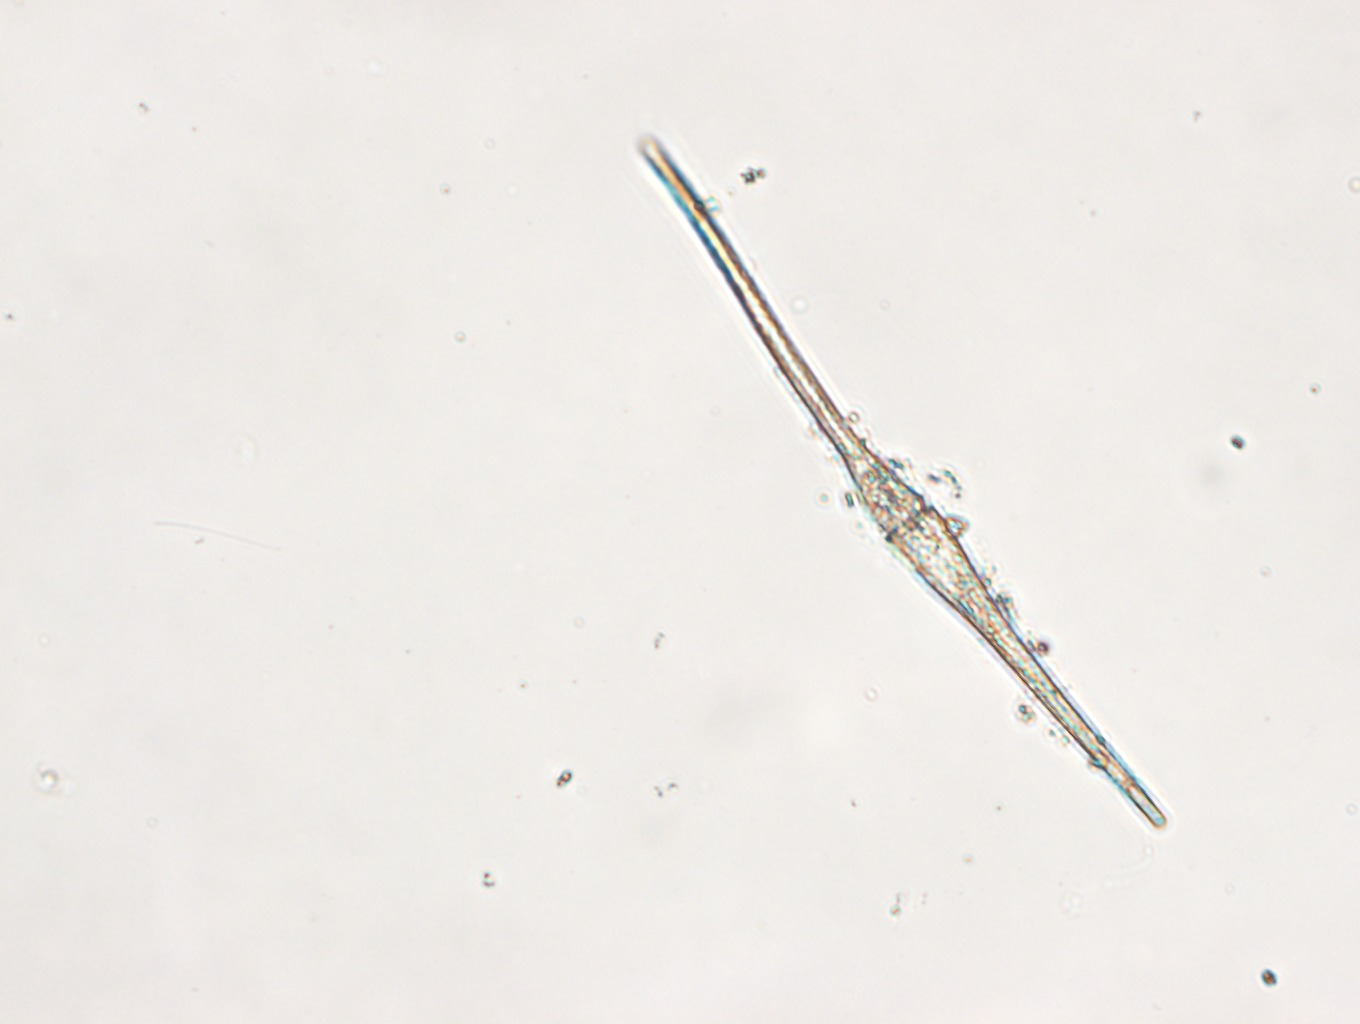ceratium fusus: (630, 133, 1171, 835)
